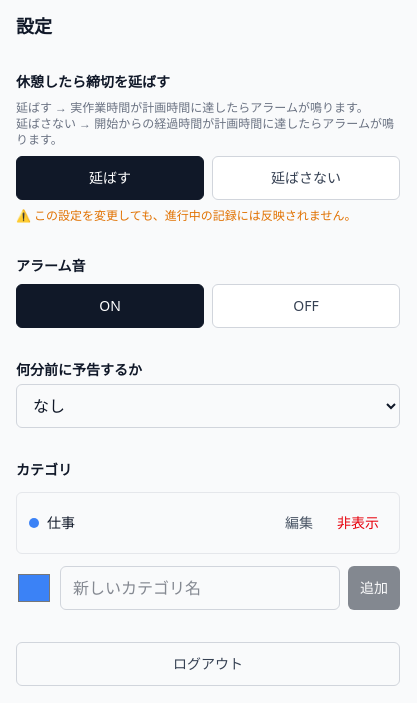
Scenario: SettingsPage › 設定・カテゴリの取得に成功した場合 › 編集をキャンセルすると更新を呼ばず表示に戻る
Click the button "編集": (299, 523) [277, 501, 321, 545]
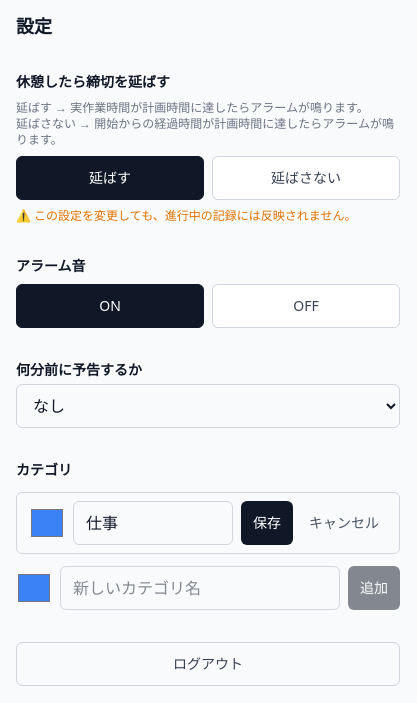
Replace the text in the field named "仕事の名前" with "作業": (153, 523) [73, 501, 233, 545]
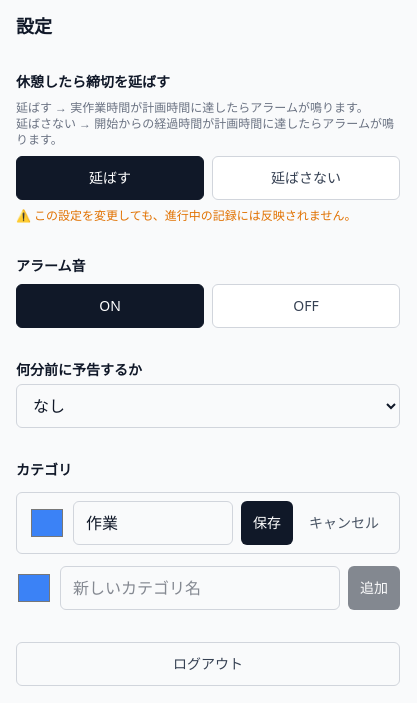
Click the button "キャンセル": (344, 523) [301, 501, 387, 545]
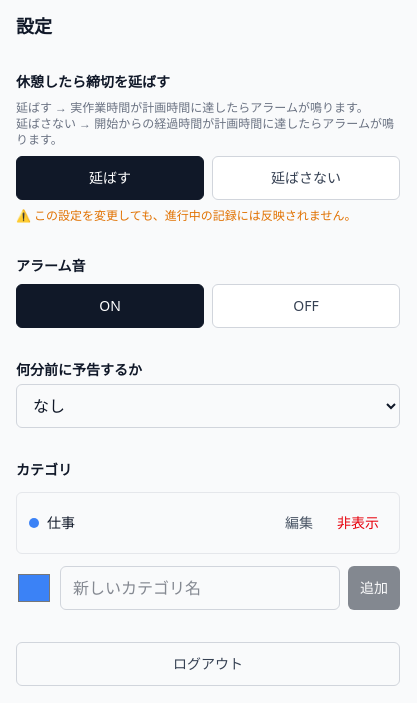
expect the text "仕事" is shown: met, box [29, 513, 75, 533]
